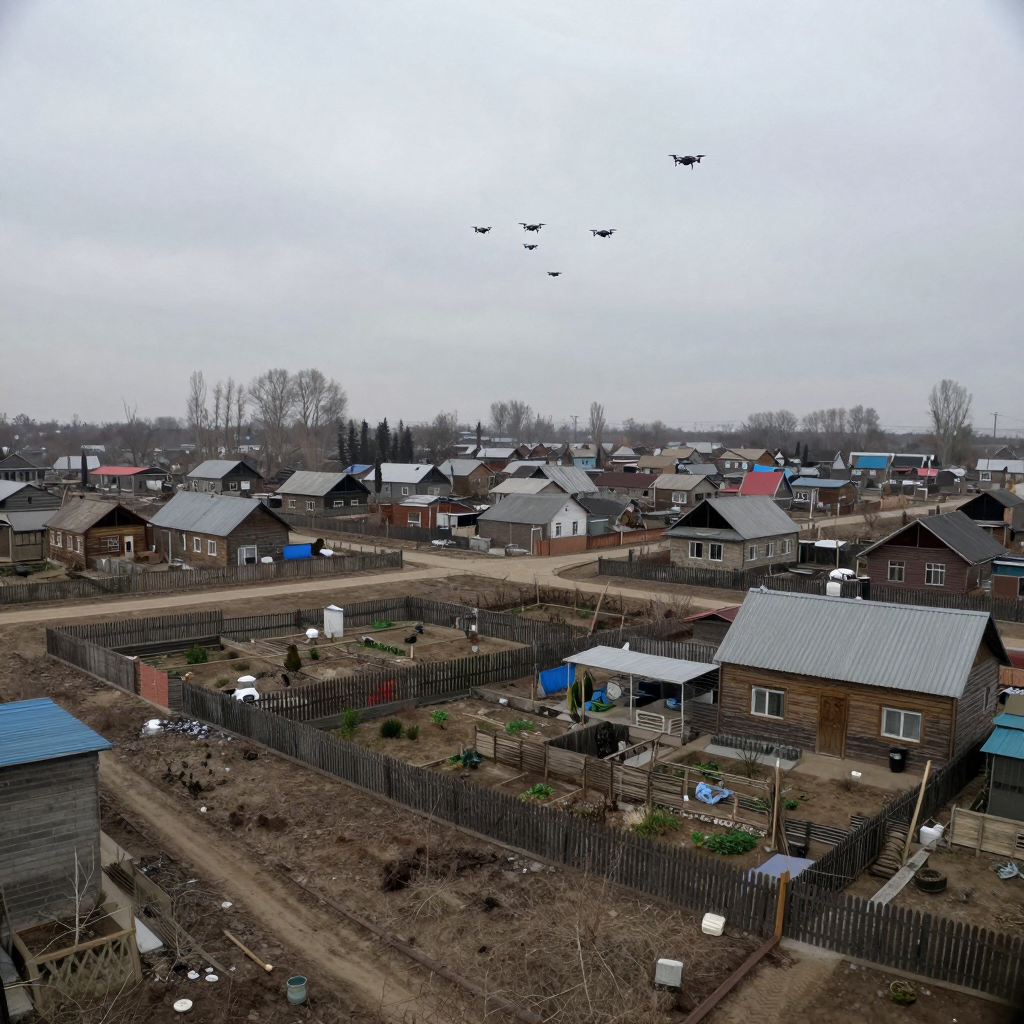drone: (668, 154, 706, 170), (518, 223, 547, 234), (589, 229, 617, 238), (470, 226, 492, 235), (523, 243, 539, 250), (547, 272, 562, 278)
